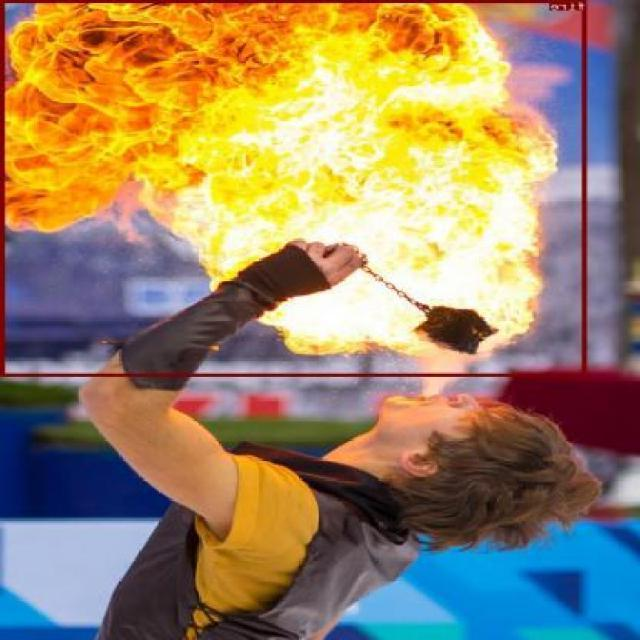Fire: (3, 0, 587, 375)
